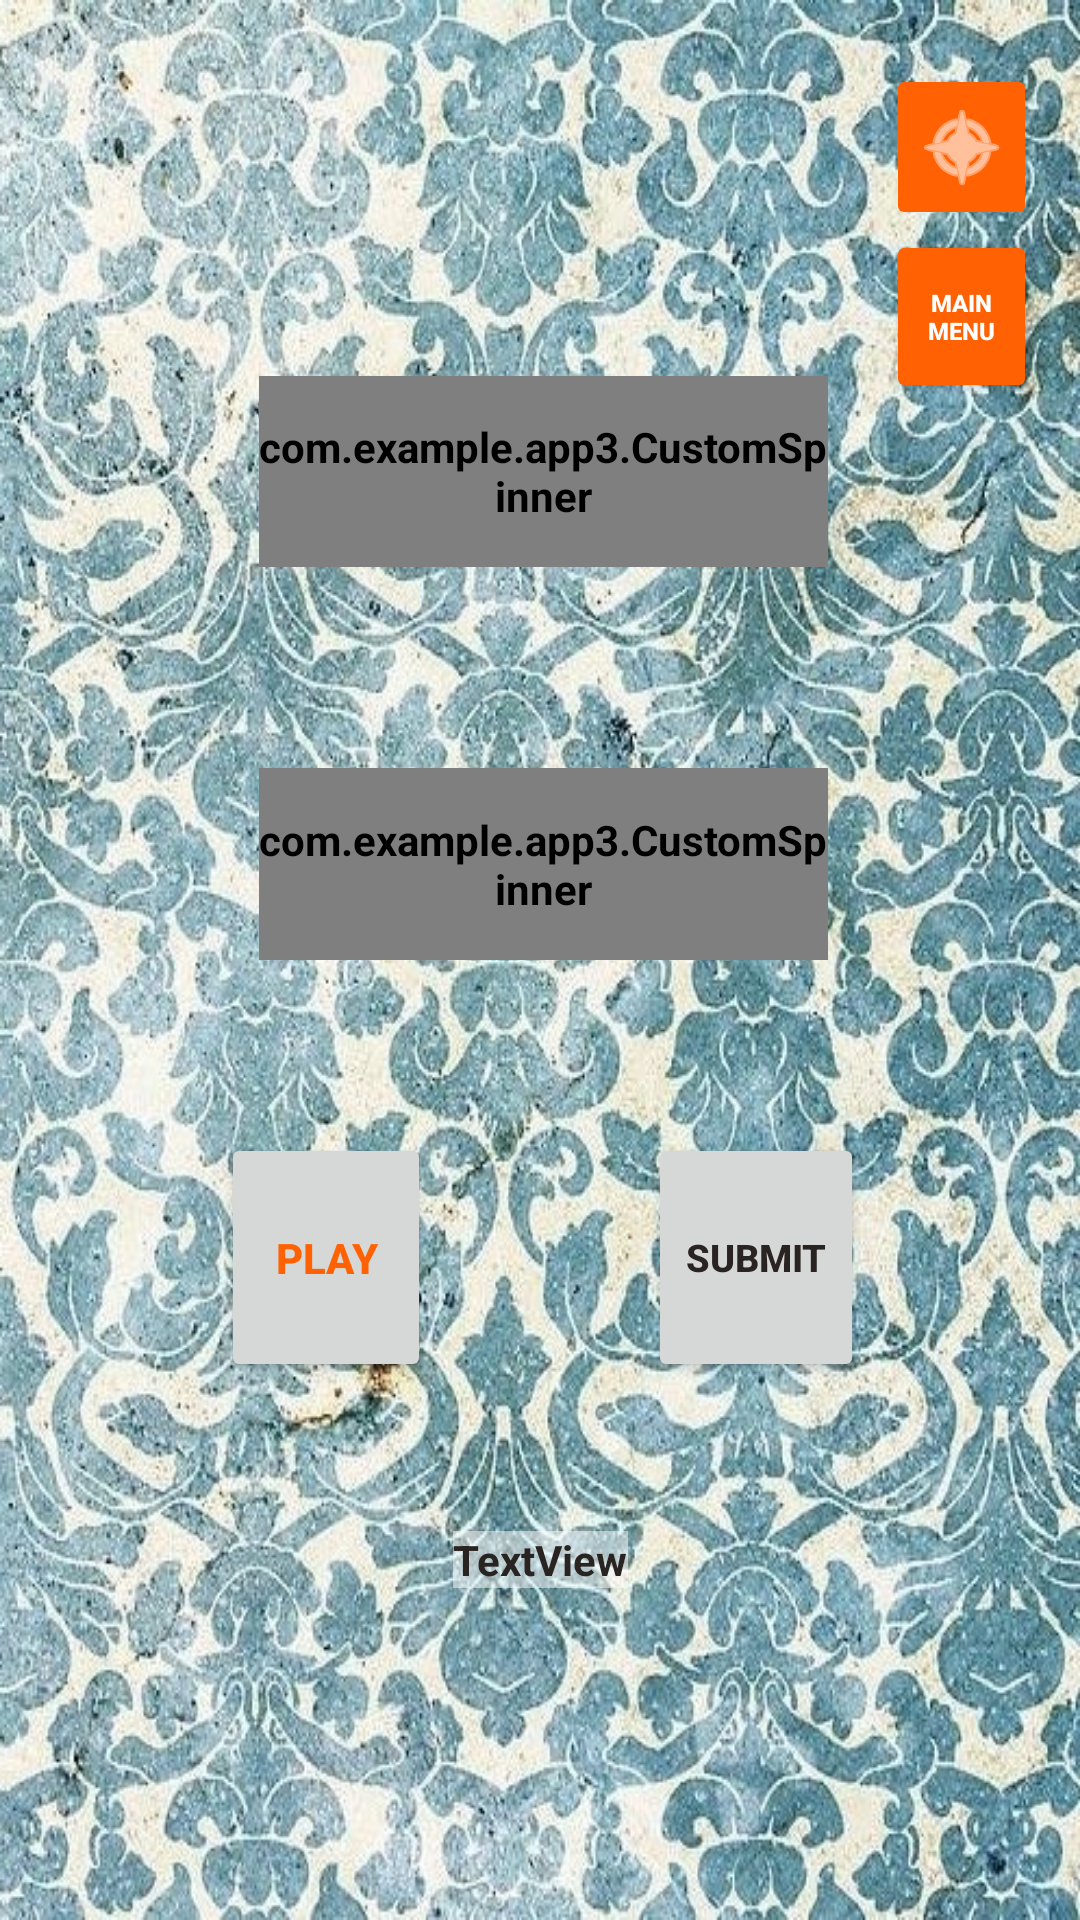

Screen size 1080w x 1920h. Icon name, then its center in pixels as [x,y]:
compass: [961,147]
